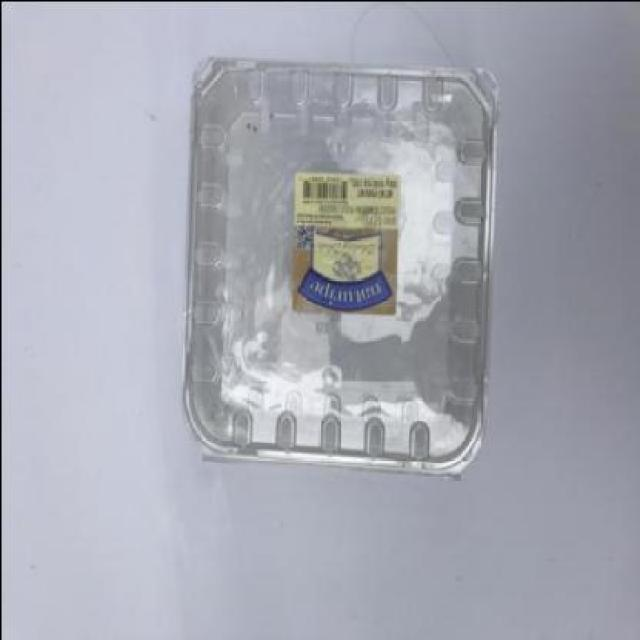PLASTIC: (179, 55, 498, 480)
